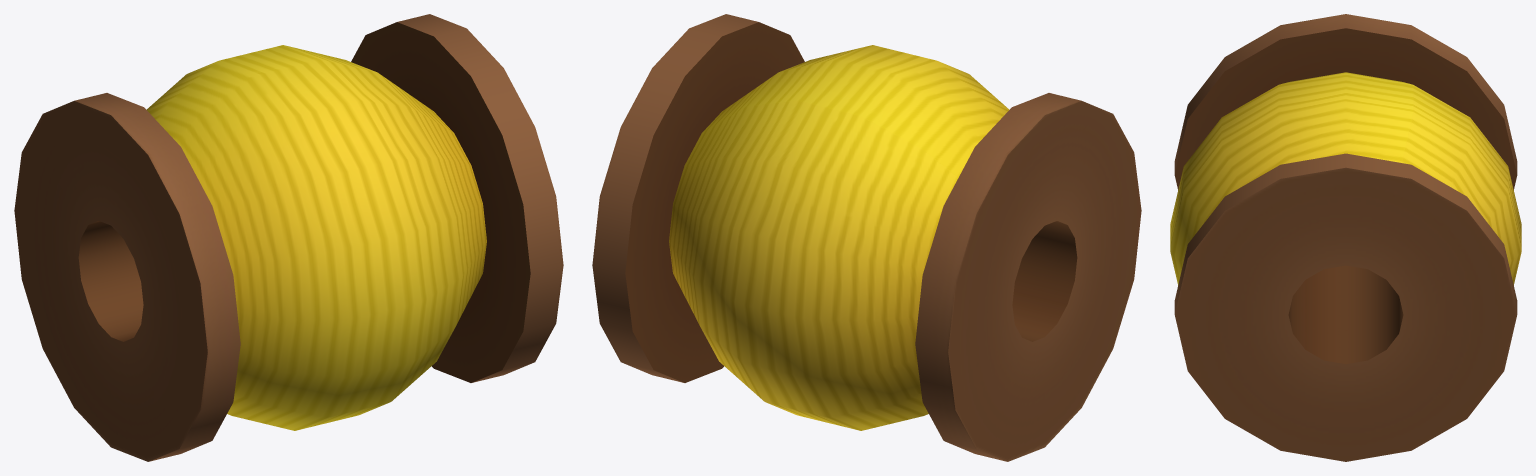
The model's file is ENV2010119.fbx.
The picture shows the model from 3 angles, left to right: view 1: azimuth 30°, elevation 25°; view 2: azimuth 150°, elevation 25°; view 3: azimuth 270°, elevation 25°; orthographic projection. The views are drawn at different scales.
Parts seen in each view (by area): view 1: smENV2010119; view 2: smENV2010119; view 3: smENV2010119.
Part boxes in pixels (box(x1,y1,x2,y2)): smENV2010119: box(14, 14, 563, 461); smENV2010119: box(592, 14, 1141, 461); smENV2010119: box(1170, 14, 1521, 461).
Bounding box in the file's own units: 13.45 × 12.31 × 12.98.
1 material, 1 textured.
